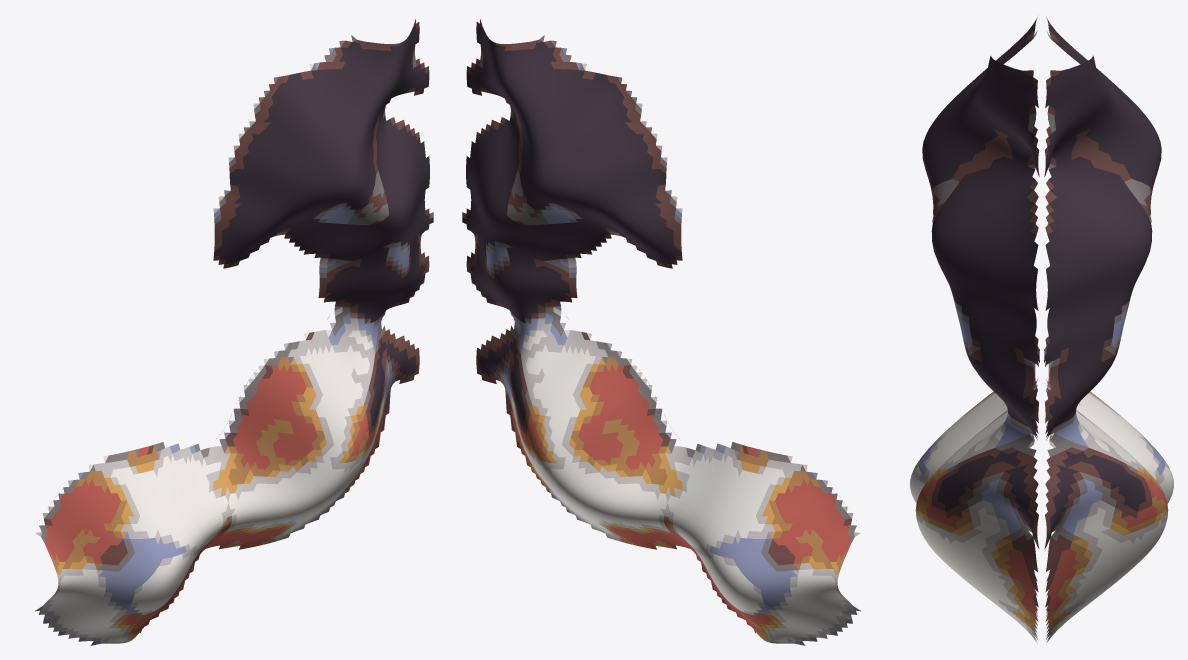
Rendered from feldaconda.glb.
3 renders of one model, left to right at view 1: azimuth 30°, elevation 25°; view 2: azimuth 150°, elevation 25°; view 3: azimuth 270°, elevation 25°, orthographic. The views are drawn at different scales.
Visible parts, largest first — view 1: feldaconda; view 2: feldaconda; view 3: feldaconda.
Part boxes in pixels (box(x1,y1,x2,y2)): feldaconda: box(35, 19, 433, 645); feldaconda: box(462, 19, 860, 645); feldaconda: box(910, 17, 1173, 642).
Bounding box in the file's own units: 659 × 859 × 282.
